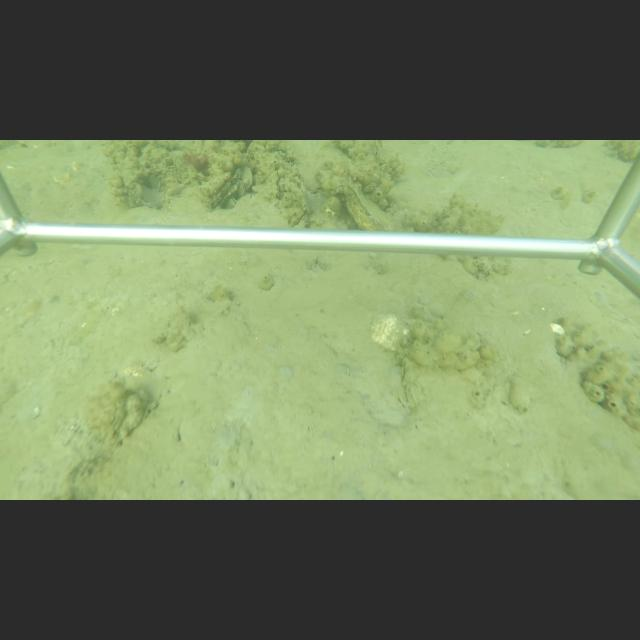Oyster-Closed: (341, 175, 395, 232), (212, 166, 244, 207)
